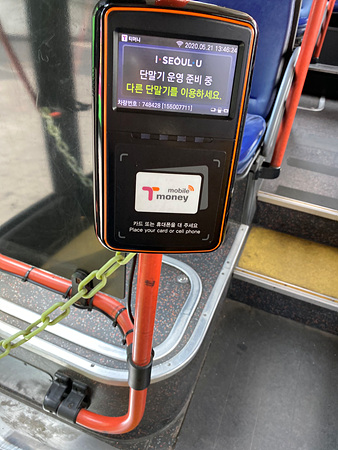terminal: (90, 5, 246, 254)
